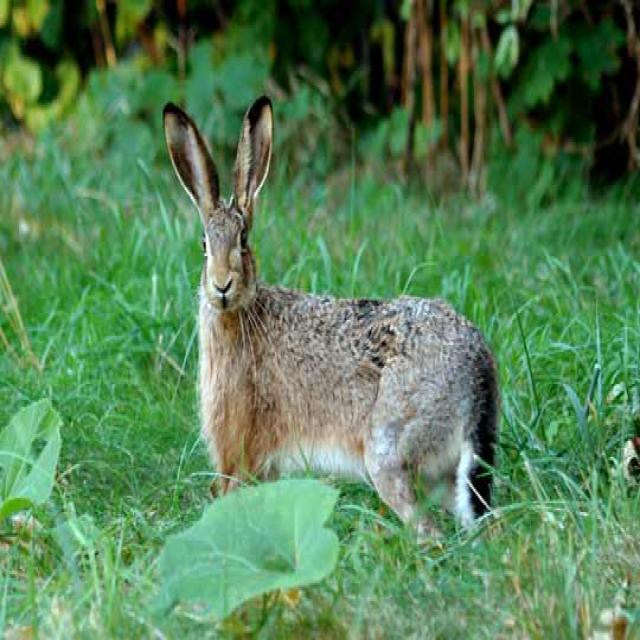Hare: (152, 91, 503, 536)
